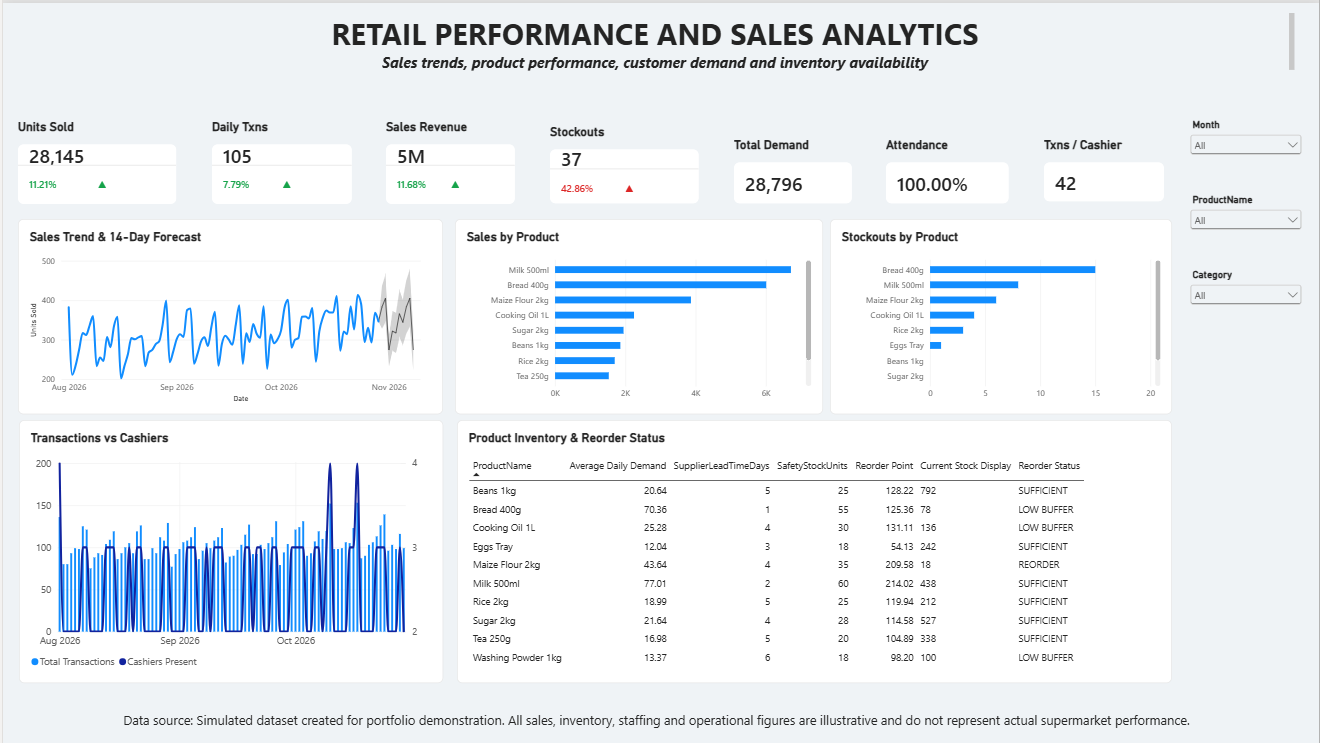

The page's visual inventory and layout, read from the dashboard file:
{"tool":"powerbi","page":{"name":"Retail Performance","canvas":[1920,1080],"ordinal":0},"visuals":[{"type":"cardVisual","title":"Units Sold","fields":{"Data":["Dim_Date.Total Units Sold Display"]},"box":[21.9,169.2,232,124],"z":0},{"type":"cardVisual","title":"Sales Revenue","fields":{"Data":["Dim_Date.Sales Revenue (KES)"]},"box":[559.3,169.2,188.2,124],"z":1000},{"type":"cardVisual","title":"Total Demand","fields":{"Data":["Dim_Date.Total Demand Display"]},"box":[1066,195.5,172.2,97.8],"z":2000},{"type":"cardVisual","title":"Stockouts","fields":{"Data":["Dim_Date.Stockout Incidents"]},"box":[798.1,176.5,217.4,116.7],"z":3000},{"type":"cardVisual","title":"Daily Txns","fields":{"Data":["Dim_Date.Average Daily Transactions"]},"box":[304.4,169.2,204.3,124],"z":4000},{"type":"lineChart","title":"Sales Trend & 14-Day Forecast","fields":{"Category":["Dim_Date.Date"],"Y":["Dim_Date.Total Units Sold"]},"box":[21.7,314.9,619.7,284.6],"z":5000},{"type":"clusteredBarChart","title":"Sales by Product","fields":{"Category":["dim_product.ProductName"],"Y":["Dim_Date.Total Units Sold"]},"box":[659.5,314.9,536.9,284.6],"z":6000},{"type":"clusteredBarChart","title":"Stockouts by Product","fields":{"Category":["dim_product.ProductName"],"Y":["Dim_Date.Stockout Incidents"]},"box":[1206.8,314.9,499.4,284.6],"z":7000},{"type":"tableEx","title":"Product Inventory & Reorder Status","fields":{"Values":["dim_product.ProductName","Dim_Date.Average Daily Demand","dim_product.SupplierLeadTimeDays","dim_product.SafetyStockUnits","Dim_Date.Reorder Point","Dim_Date.Current Stock","Dim_Date.Reorder Status"]},"box":[662.4,608.4,1043.2,383.7],"z":8000},{"type":"lineClusteredColumnComboChart","title":"Transactions vs Cashiers","fields":{"Category":["Dim_Date.Date"],"Y":["Dim_Date.Total Transactions"],"Y2":["Dim_Date.Cashiers Present"]},"box":[23.3,608.4,618.6,383.7],"z":9000},{"type":"cardVisual","title":"Attendance","fields":{"Data":["Dim_Date.Staff Attendance Rate"]},"box":[1288.8,195.5,179.5,97.8],"z":10000},{"type":"cardVisual","title":"Txns / Cashier","fields":{"Data":["Dim_Date.Transactions per Cashier"]},"box":[1518.8,195.5,175.1,94.8],"z":11000},{"type":"textbox","box":[25.9,14.2,1857.9,84.1],"z":12000},{"type":"textbox","box":[23.3,1032.9,1860.2,36.5],"z":13000},{"type":"slicer","fields":{"Values":["Dim_Date.Month"]},"box":[1727.4,169.2,172.2,70],"z":14000},{"type":"slicer","fields":{"Values":["dim_product.ProductName"]},"box":[1727.4,278.7,172.2,70],"z":15000},{"type":"slicer","fields":{"Values":["dim_product.Category"]},"box":[1727.4,388.1,172.2,68.6],"z":16000}]}

Visuals, with their boxes in screenshot pixels (x1, y1, x2, y2), scaled from the page's 1920x1080 canvas onto the 1320x743 screenshot:
"Units Sold" cardVisual: 15 116 175 202
"Sales Revenue" cardVisual: 385 116 514 202
"Total Demand" cardVisual: 733 134 851 202
"Stockouts" cardVisual: 549 121 698 202
"Daily Txns" cardVisual: 209 116 350 202
"Sales Trend & 14-Day Forecast" lineChart: 15 217 441 412
"Sales by Product" clusteredBarChart: 453 217 823 412
"Stockouts by Product" clusteredBarChart: 830 217 1173 412
"Product Inventory & Reorder Status" tableEx: 455 419 1173 683
"Transactions vs Cashiers" lineClusteredColumnComboChart: 16 419 441 683
"Attendance" cardVisual: 886 134 1009 202
"Txns / Cashier" cardVisual: 1044 134 1165 200
textbox: 18 10 1295 68
textbox: 16 711 1295 736
slicer - Dim_Date.Month: 1188 116 1306 165
slicer - dim_product.ProductName: 1188 192 1306 240
slicer - dim_product.Category: 1188 267 1306 314
